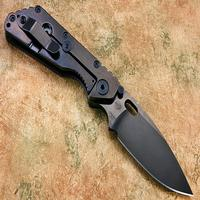knife: (6, 4, 194, 198)
